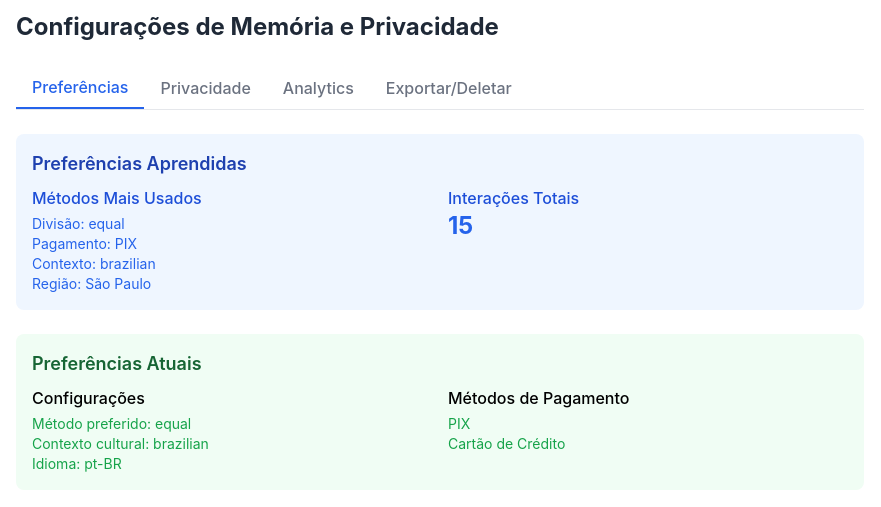
Test: MemoryContextUI Component - Story 6 › Technical Requirements Tests › should display analytics when consent is given
This screenshot has width=881, height=507.
Click the button "Analytics" at [318, 88], box 267,67 -> 370,109
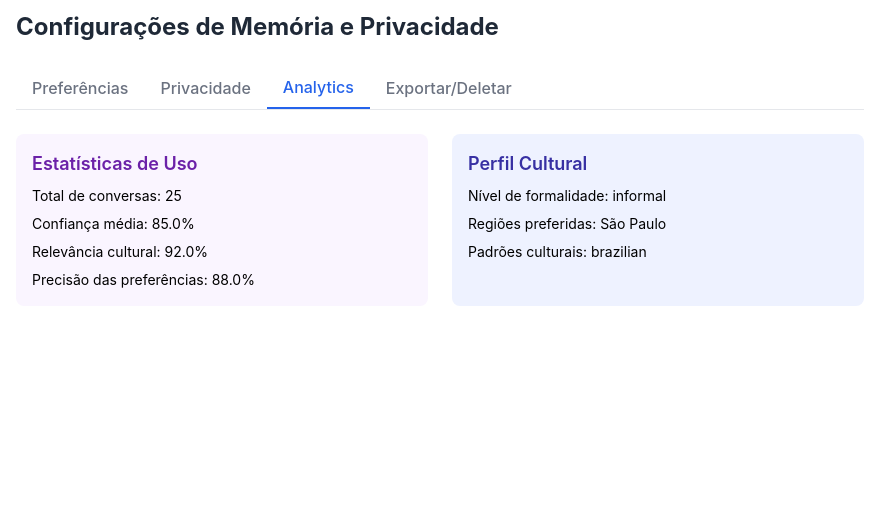
Check: the heading "Estatísticas de Uso" is shown, box 32,153 -> 198,174
